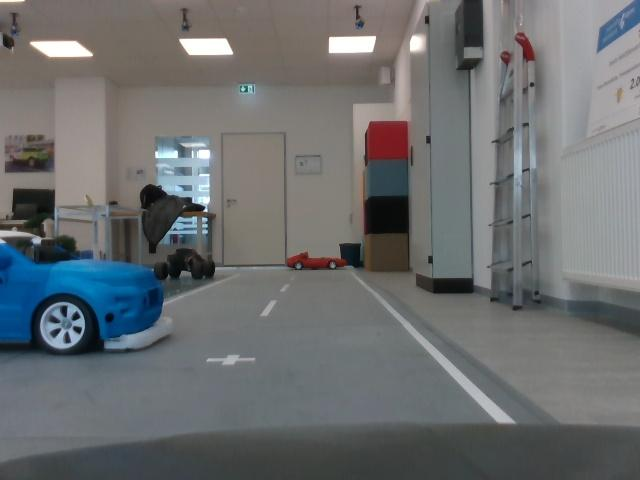car: (2, 229, 183, 356), (159, 245, 219, 286), (283, 247, 348, 275)
